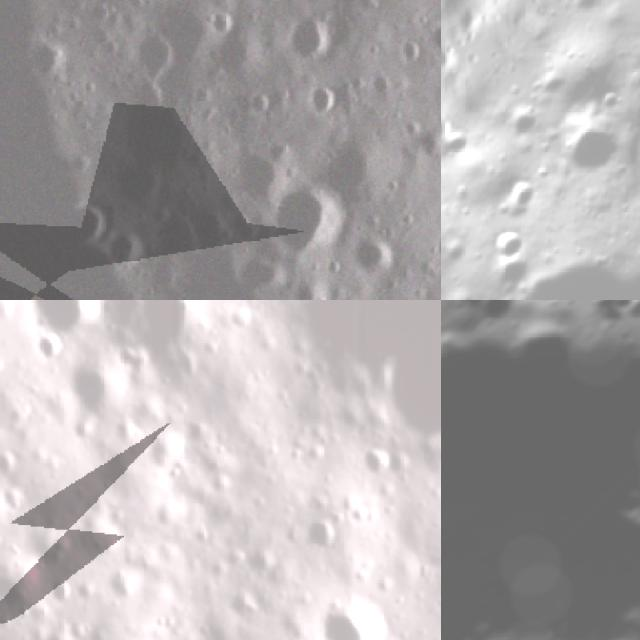crater: (441, 300, 640, 640), (441, 91, 640, 300), (266, 300, 441, 453), (257, 164, 361, 267), (530, 93, 632, 198), (592, 51, 640, 271), (131, 300, 211, 371), (124, 15, 192, 94), (277, 4, 348, 74), (54, 189, 120, 257), (67, 354, 125, 427), (484, 169, 546, 235), (345, 231, 407, 291), (17, 29, 75, 93), (476, 213, 534, 272), (99, 229, 159, 283), (317, 599, 385, 640), (34, 300, 100, 342), (479, 48, 524, 100), (195, 0, 243, 48), (578, 300, 640, 337), (108, 564, 153, 612), (0, 554, 34, 617), (295, 81, 343, 125), (234, 82, 276, 128), (464, 300, 516, 336), (299, 509, 341, 553), (43, 574, 77, 612), (425, 222, 441, 275), (424, 20, 441, 64)
